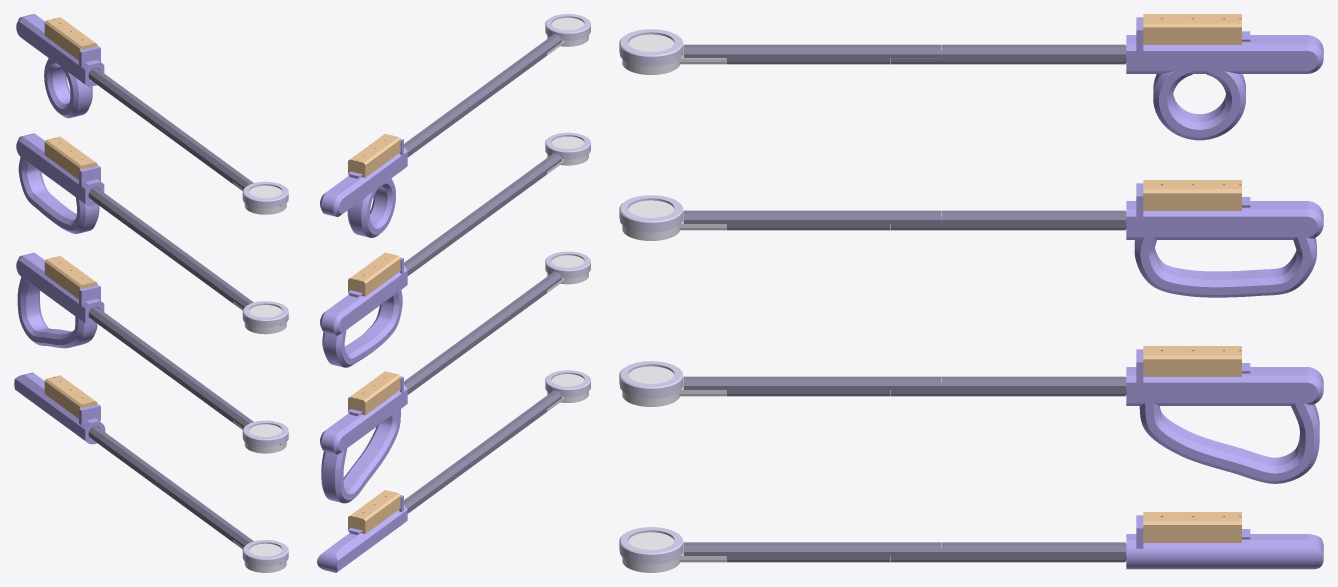
Rendered from assembly-puck-legacy.glb.
The picture shows the model from 3 angles, left to right: view 1: azimuth 30°, elevation 25°; view 2: azimuth 150°, elevation 25°; view 3: azimuth 270°, elevation 25°; orthographic projection. The views are drawn at different scales.
Visible parts, largest first — view 1: puck-legacy-oval/handle-oval, puck-legacy-angled/handle-angled, puck-legacy-round/handle-round, puck-legacy-straight/handle-straight, puck-legacy-round/shaft-upper, puck-legacy-straight/shaft-upper, puck-legacy-oval/shaft-upper, puck-legacy-angled/shaft-upper, puck-legacy-straight/shaft-lower, puck-legacy-angled/shaft-lower, puck-legacy-oval/shaft-lower, puck-legacy-round/shaft-lower (+8 smaller); view 2: puck-legacy-angled/handle-angled, puck-legacy-oval/handle-oval, puck-legacy-round/handle-round, puck-legacy-straight/handle-straight, puck-legacy-straight/shaft-upper, puck-legacy-round/shaft-upper, puck-legacy-angled/shaft-upper, puck-legacy-oval/shaft-upper, puck-legacy-oval/button-pod-pilot, puck-legacy-angled/button-pod-pilot, puck-legacy-round/button-pod-pilot, puck-legacy-straight/button-pod-pilot (+8 smaller); view 3: puck-legacy-angled/handle-angled, puck-legacy-oval/handle-oval, puck-legacy-round/handle-round, puck-legacy-straight/handle-straight, puck-legacy-straight/shaft-upper, puck-legacy-round/shaft-upper, puck-legacy-oval/shaft-upper, puck-legacy-angled/shaft-upper, puck-legacy-round/shaft-lower, puck-legacy-oval/shaft-lower, puck-legacy-angled/shaft-lower, puck-legacy-straight/shaft-lower (+8 smaller).
Part boxes in pixels (bbox=[...]): puck-legacy-oval/handle-oval: bbox=[16, 133, 104, 233]; puck-legacy-angled/handle-angled: bbox=[16, 253, 104, 348]; puck-legacy-round/handle-round: bbox=[16, 14, 104, 118]; puck-legacy-straight/handle-straight: bbox=[14, 372, 105, 444]; puck-legacy-round/shaft-upper: bbox=[155, 117, 253, 188]; puck-legacy-straight/shaft-upper: bbox=[155, 475, 253, 547]; puck-legacy-oval/shaft-upper: bbox=[155, 236, 253, 308]; puck-legacy-angled/shaft-upper: bbox=[155, 356, 253, 427]; puck-legacy-straight/shaft-lower: bbox=[88, 426, 174, 499]; puck-legacy-angled/shaft-lower: bbox=[88, 307, 173, 379]; puck-legacy-oval/shaft-lower: bbox=[88, 187, 174, 260]; puck-legacy-round/shaft-lower: bbox=[88, 68, 173, 140]; puck-legacy-angled/handle-angled: bbox=[320, 376, 407, 503]; puck-legacy-oval/handle-oval: bbox=[320, 257, 407, 367]; puck-legacy-round/handle-round: bbox=[320, 138, 407, 237]; puck-legacy-straight/handle-straight: bbox=[317, 495, 407, 572]; puck-legacy-straight/shaft-upper: bbox=[462, 390, 561, 465]; puck-legacy-round/shaft-upper: bbox=[462, 34, 561, 108]; puck-legacy-angled/shaft-upper: bbox=[462, 271, 561, 346]; puck-legacy-oval/shaft-upper: bbox=[462, 153, 561, 227]; puck-legacy-oval/button-pod-pilot: bbox=[348, 252, 400, 296]; puck-legacy-angled/button-pod-pilot: bbox=[348, 371, 400, 415]; puck-legacy-round/button-pod-pilot: bbox=[348, 133, 400, 177]; puck-legacy-straight/button-pod-pilot: bbox=[348, 490, 400, 533]; puck-legacy-angled/handle-angled: bbox=[1126, 349, 1323, 483]; puck-legacy-oval/handle-oval: bbox=[1126, 183, 1323, 297]; puck-legacy-round/handle-round: bbox=[1126, 17, 1323, 140]; puck-legacy-straight/handle-straight: bbox=[1126, 515, 1323, 569]; puck-legacy-straight/shaft-upper: bbox=[683, 542, 941, 562]; puck-legacy-round/shaft-upper: bbox=[683, 44, 941, 64]; puck-legacy-oval/shaft-upper: bbox=[683, 210, 941, 230]; puck-legacy-angled/shaft-upper: bbox=[683, 376, 941, 396]; puck-legacy-round/shaft-lower: bbox=[891, 44, 1126, 64]; puck-legacy-oval/shaft-lower: bbox=[891, 210, 1126, 230]; puck-legacy-angled/shaft-lower: bbox=[891, 376, 1126, 396]; puck-legacy-straight/shaft-lower: bbox=[891, 542, 1126, 562].
Bounding box in the file's own units: 0.0454 × 0.43 × 0.5.
